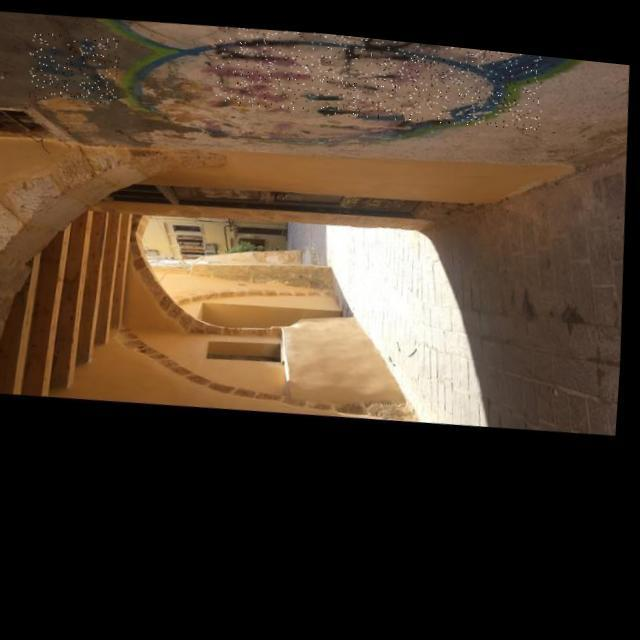-: (314, 26, 545, 126), (212, 18, 318, 107), (27, 28, 123, 106)
